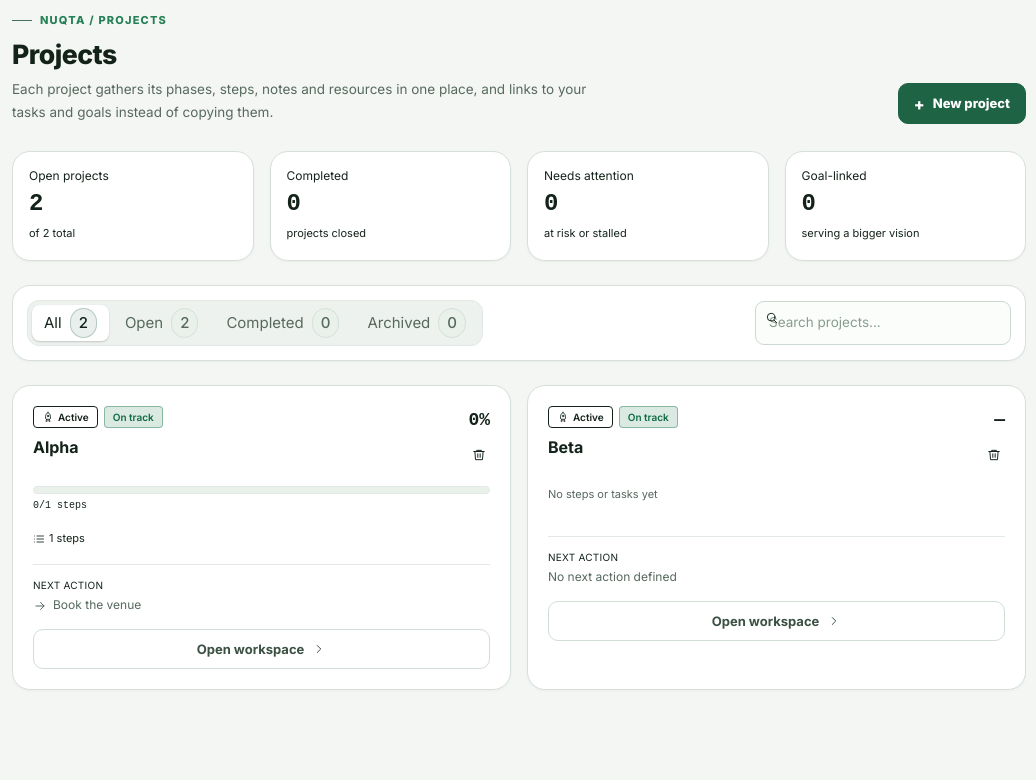
ProjectsView — the hub › searches inside steps and notes, not just titles
The image size is (1036, 780).
Type "venue" into the field with placeholder "Search projects..." at (883, 323), box [755,301,1011,345]
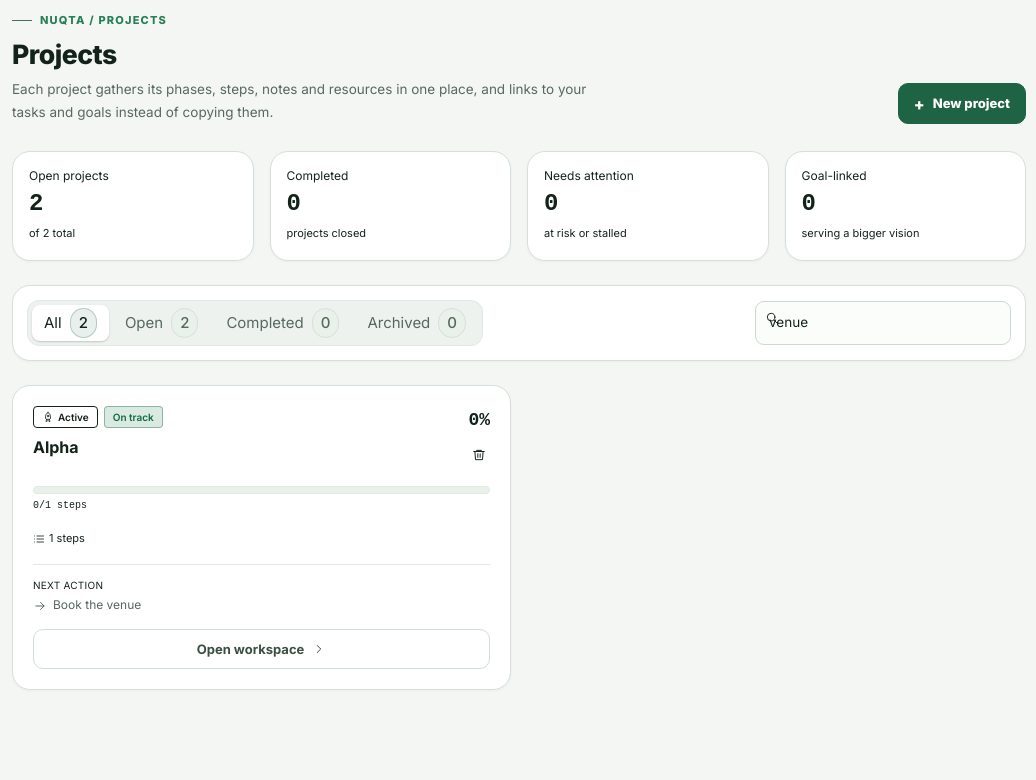
Check: the heading "Alpha" is shown, box [33,437,79,457]
Check: the button "Beta" is gone
